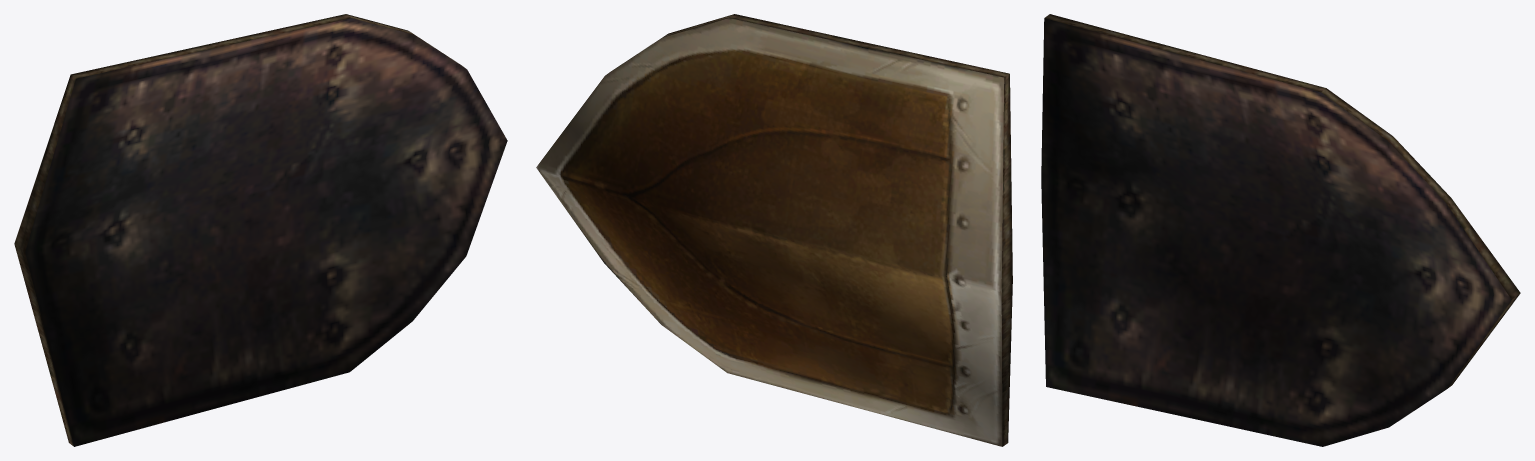
3 views of the same model, side by side, from view 1: azimuth 30°, elevation 25°; view 2: azimuth 150°, elevation 25°; view 3: azimuth 330°, elevation 25° (orthographic).
Visible parts, largest first — view 1: model_5b33e4376731618880; view 2: model_5b33e4376731618880; view 3: model_5b33e4376731618880.
Boxes of the visible parts, box(x1,y1,x2,y2) form: model_5b33e4376731618880: box(14, 14, 507, 446); model_5b33e4376731618880: box(536, 14, 1012, 446); model_5b33e4376731618880: box(1041, 14, 1520, 446).
Size of the model in its own units: 0.5471 by 0.4059 by 0.0696.
Materials: 2 (2 with a texture image).
